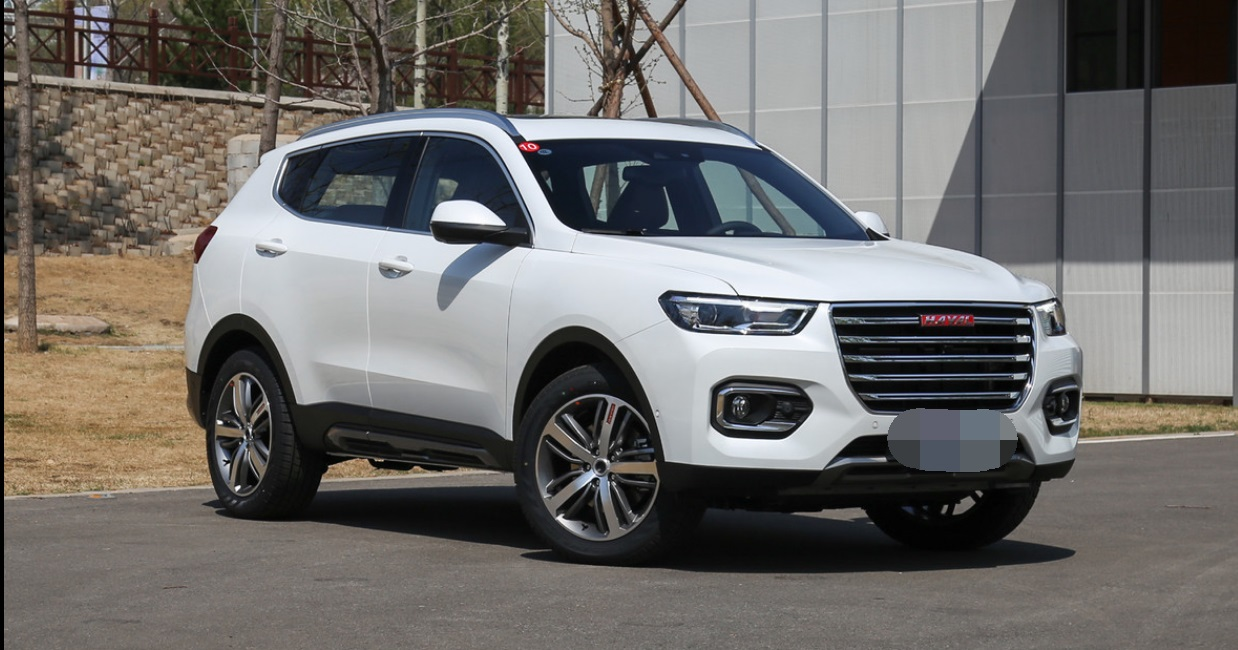SUV: (179, 103, 1095, 562)
